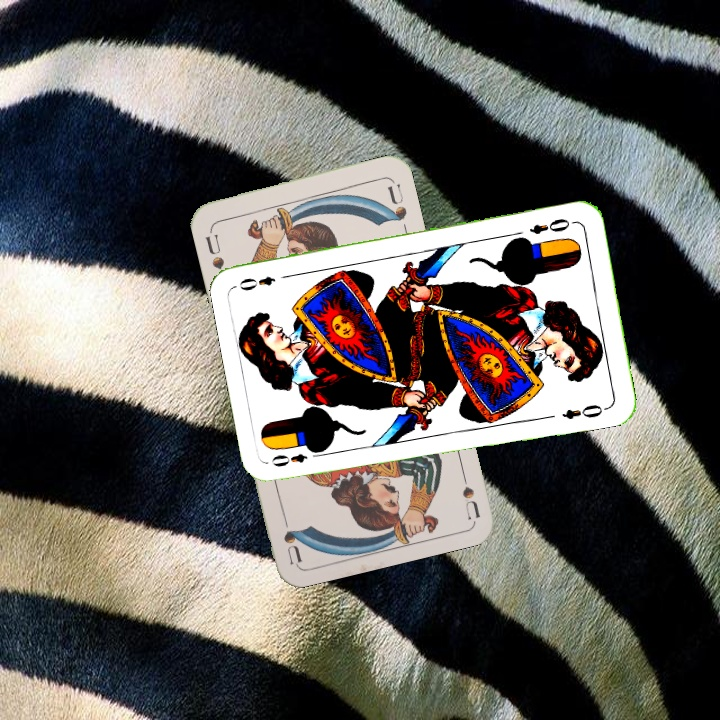EO: (267, 445, 325, 470), (526, 214, 577, 237)
SU: (456, 461, 482, 520), (201, 230, 227, 272)
